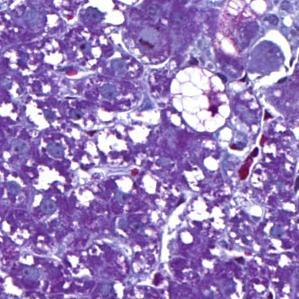ballooning: (169, 66, 232, 135)
